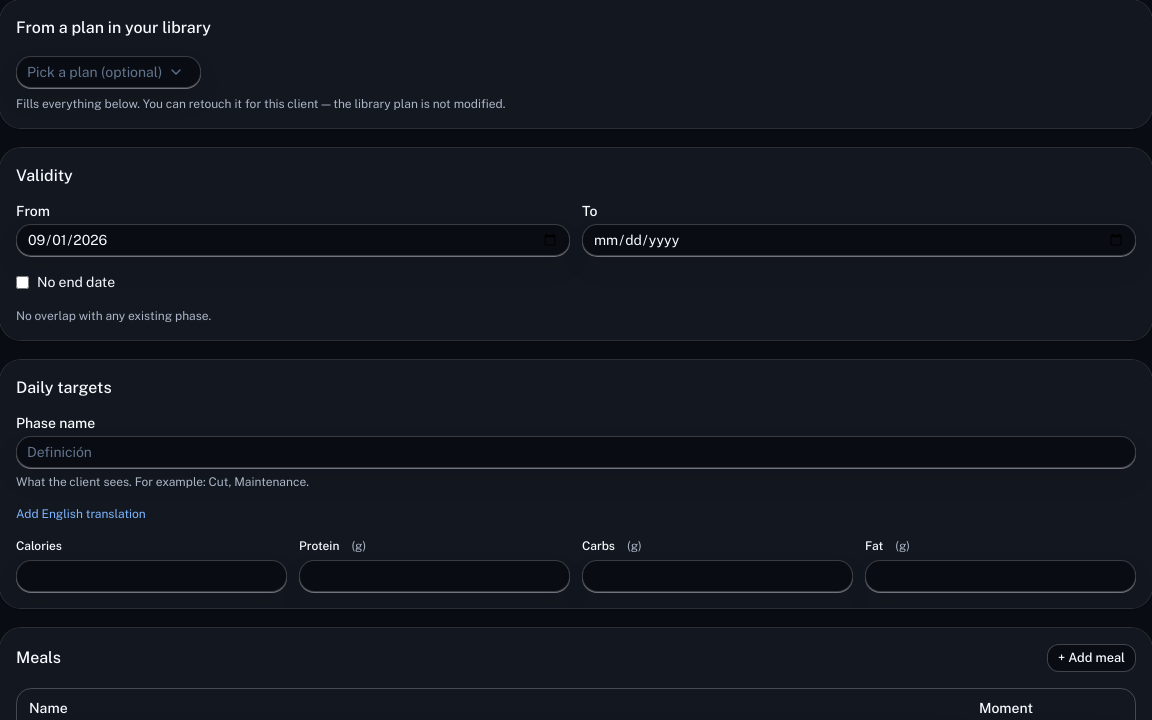
Test: AssignNutritionForm — from a template (#918) › marks the daily target as retouched only once it actually differs
The image size is (1152, 720).
Click the dropdown with test id "nutrition-template-select" at (109, 72), box left=16, top=56, right=201, bottom=88
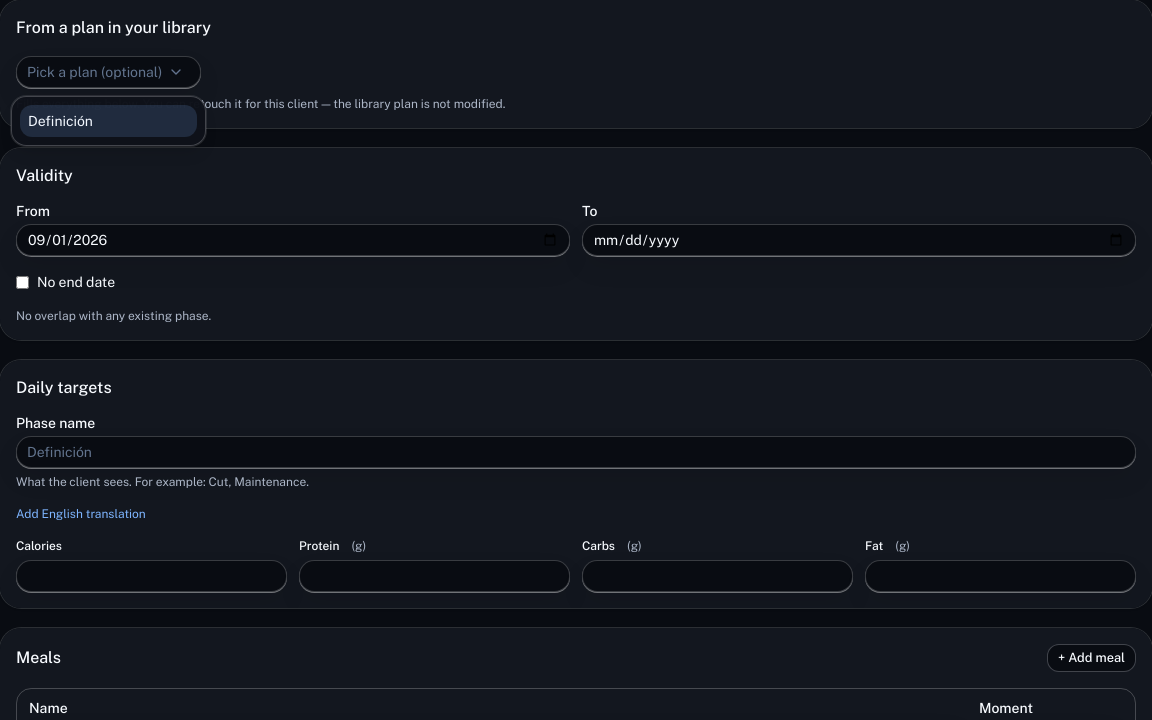
Click the option "Definición" at (109, 121), box left=20, top=105, right=197, bottom=137
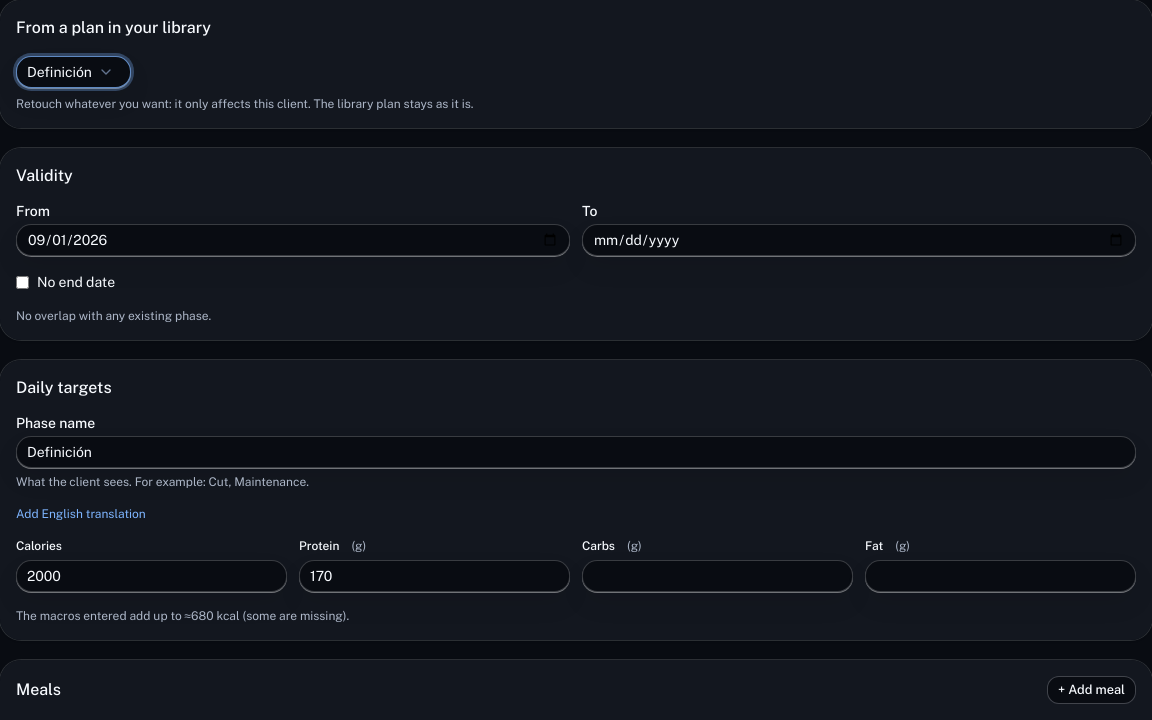
Replace the text in the field labelled "Calories" with "1800" at (152, 576), box left=16, top=560, right=287, bottom=592
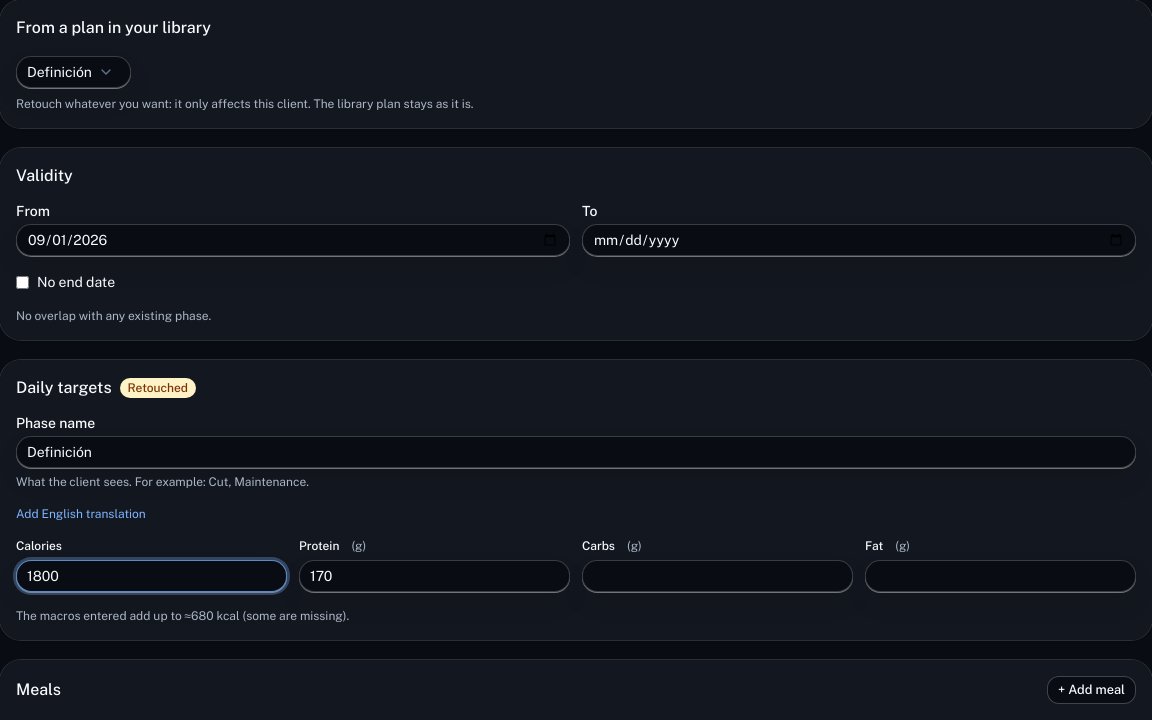
Now the text "Retouched" is shown, box left=120, top=378, right=196, bottom=398
Replace the text in the field labelled "Calories" with "2000" at (152, 576), box left=16, top=560, right=287, bottom=592
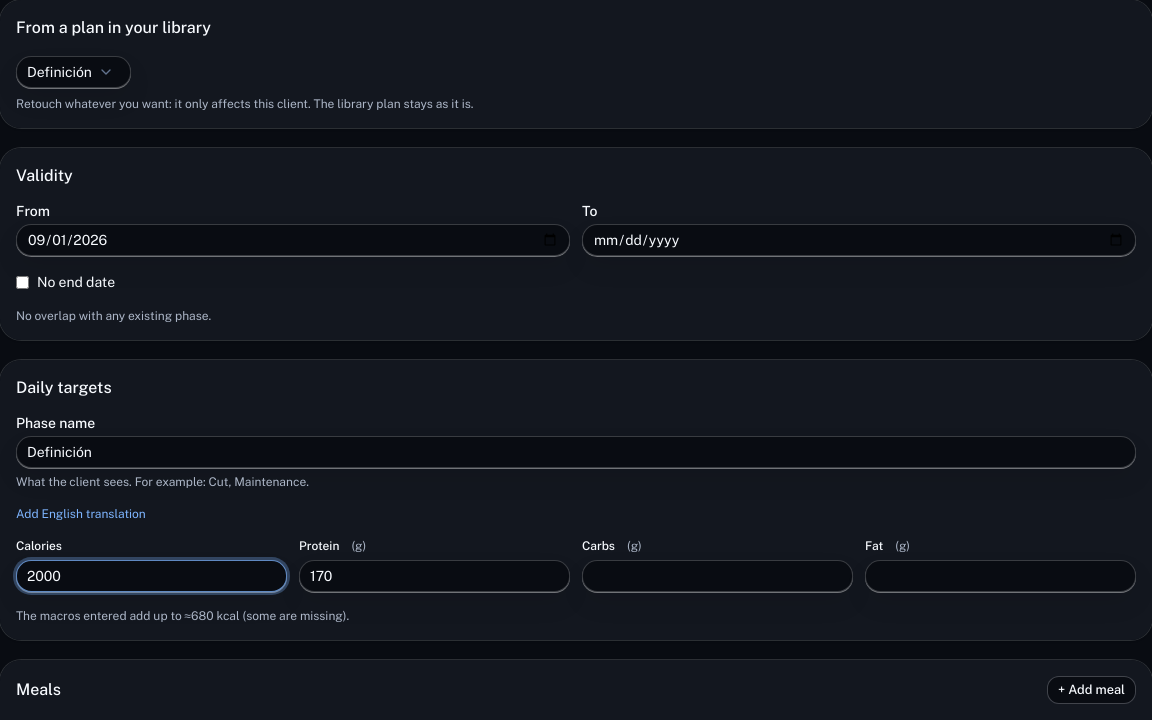
Now the text with test id "nutrition-deviation-daily" is gone
